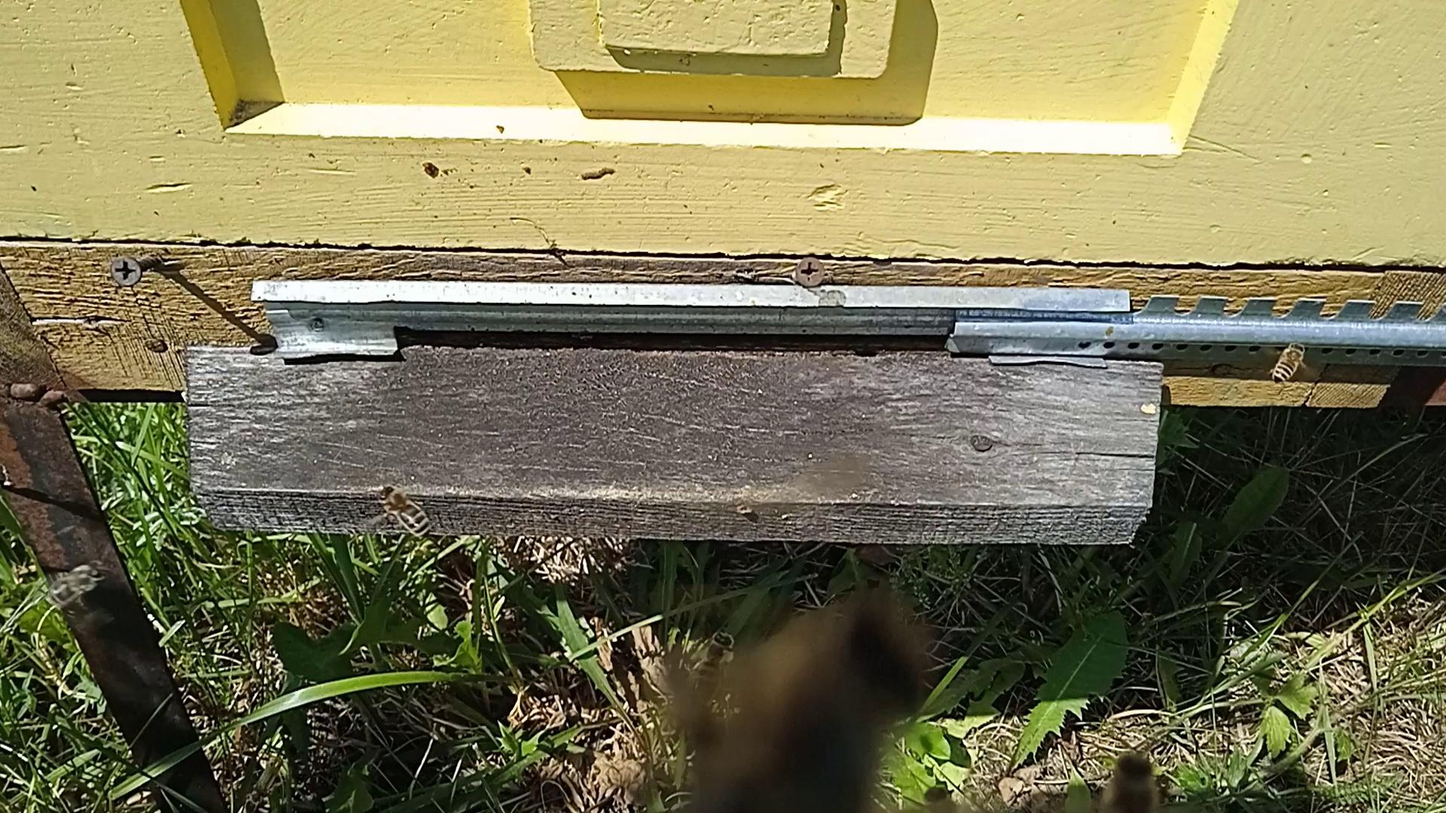worker-bee: (688, 629, 741, 708), (1097, 750, 1161, 813), (377, 484, 432, 537), (44, 562, 108, 607), (1271, 341, 1307, 382)
